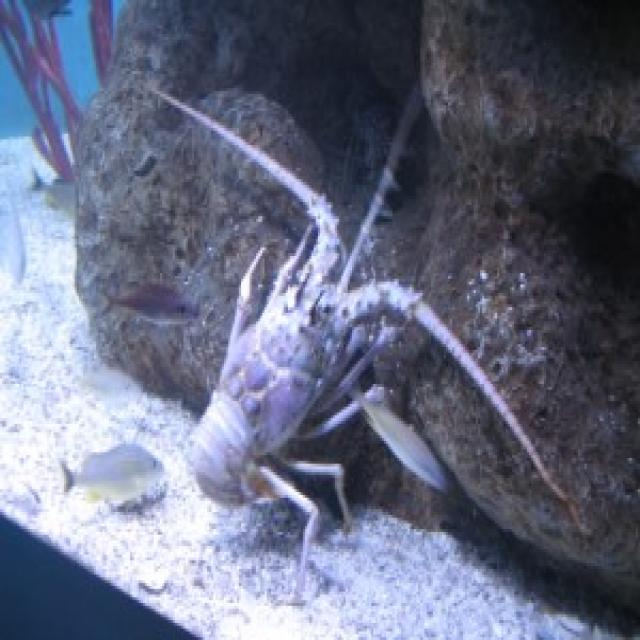lobsters: (70, 49, 534, 603)
